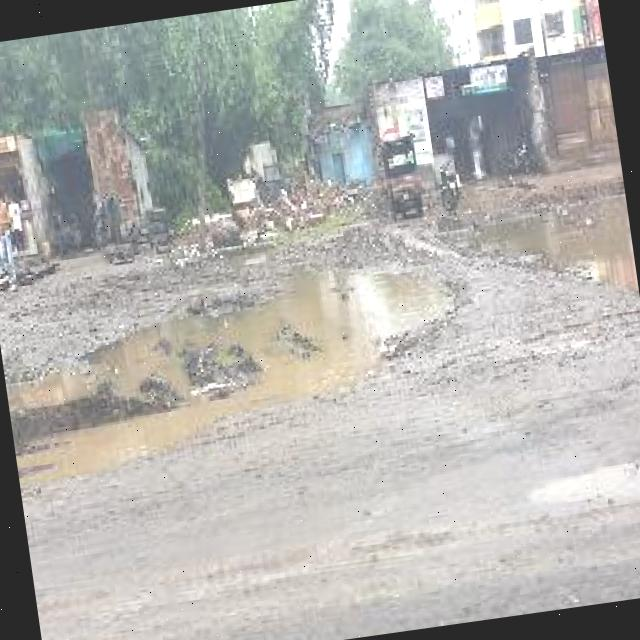waterlogging: (0, 248, 480, 492)
